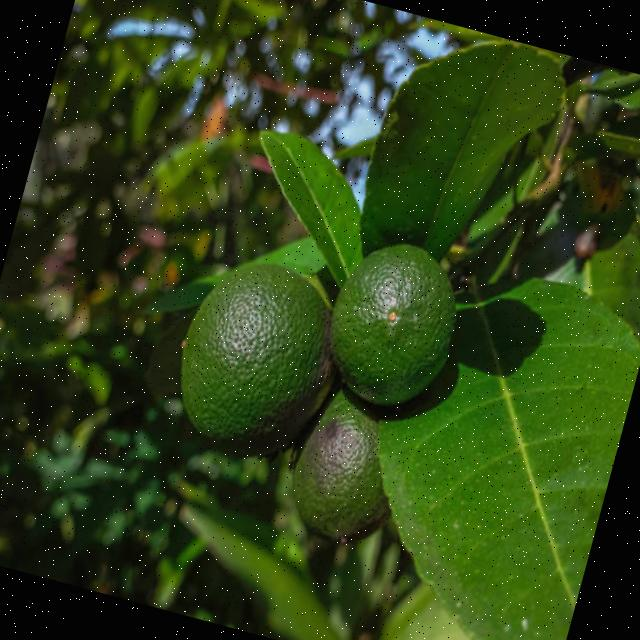Unripe: (158, 240, 355, 474), (314, 230, 476, 420)
